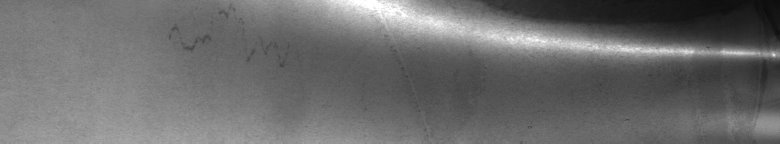ke: (486, 4, 776, 68)
